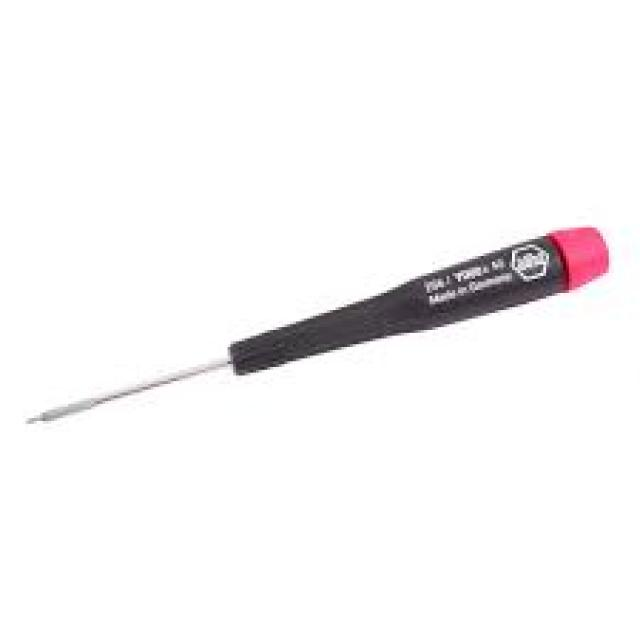screw driver: (8, 190, 640, 458)
